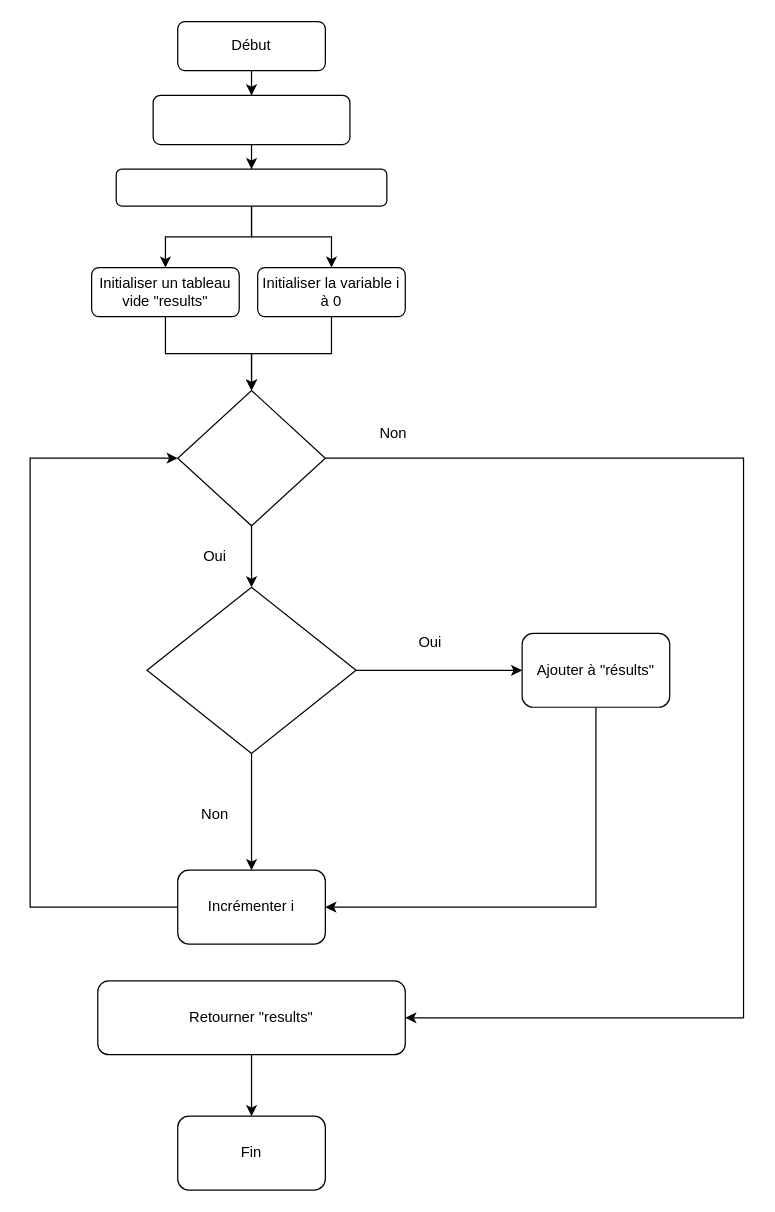
Some shapes in this 775 by 1212 pixel diagram are drawn without their labels. The box of each missing label's shape, as (x1, y1, x2, y2) in pixels:
Initialiser une liste avec le ou les mots-clés "search_term": (115, 168, 387, 206)
Si élément de recipes[i] contient éléments de "search_term": (146, 586, 356, 753)
Tant que i < la longueur du tableau "recipes": (177, 389, 325, 526)
Utilisateur entre un ingrédient ou un mot-clé: (152, 94, 350, 145)
